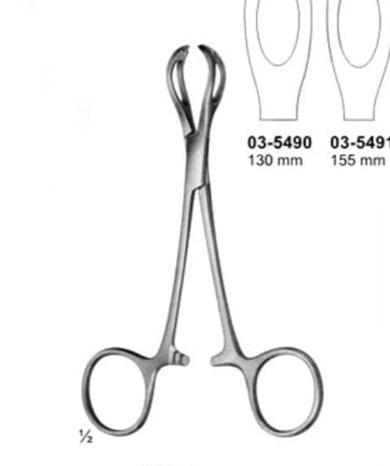Lane Tissue Forceps: (78, 36, 324, 446)
